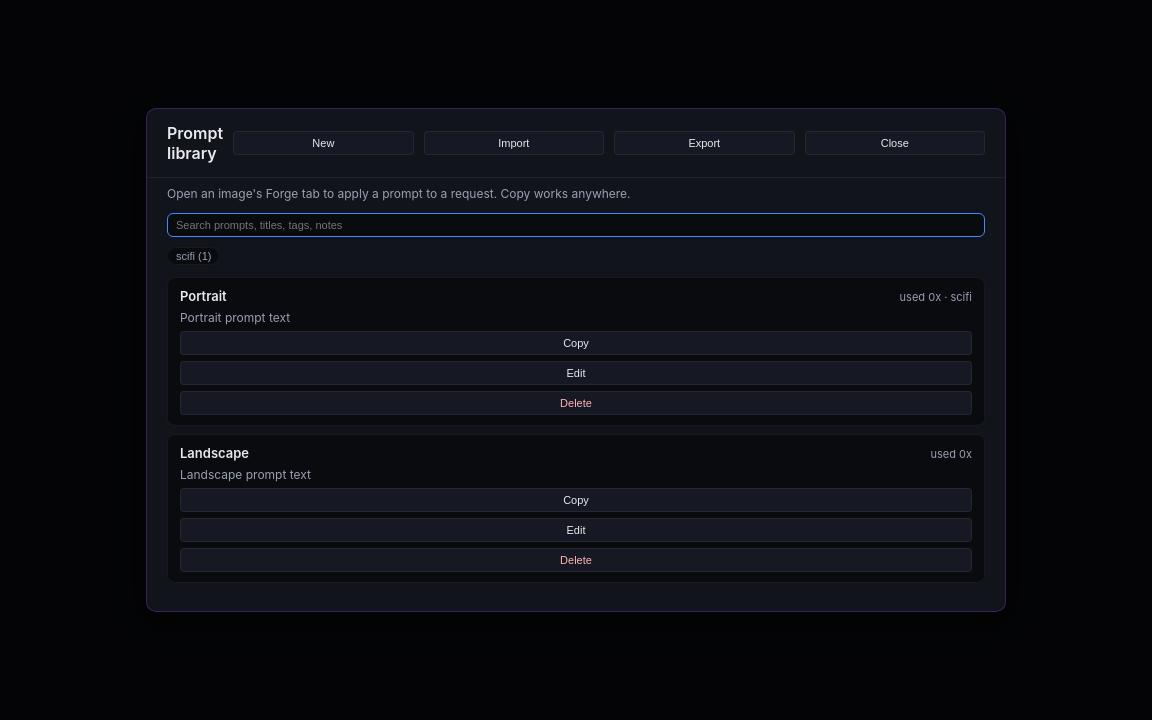
Test: PromptLibraryDialog › deleting two entries in sequence creates an undo stack, popping newest first until cleared
Expected: the text "Portrait" is shown, left=180, top=288, right=227, bottom=304
Delete first entry ("Portrait")
Click the button "Delete" below "Portrait prompt text".
click(576, 403)  # box left=180, top=391, right=972, bottom=415
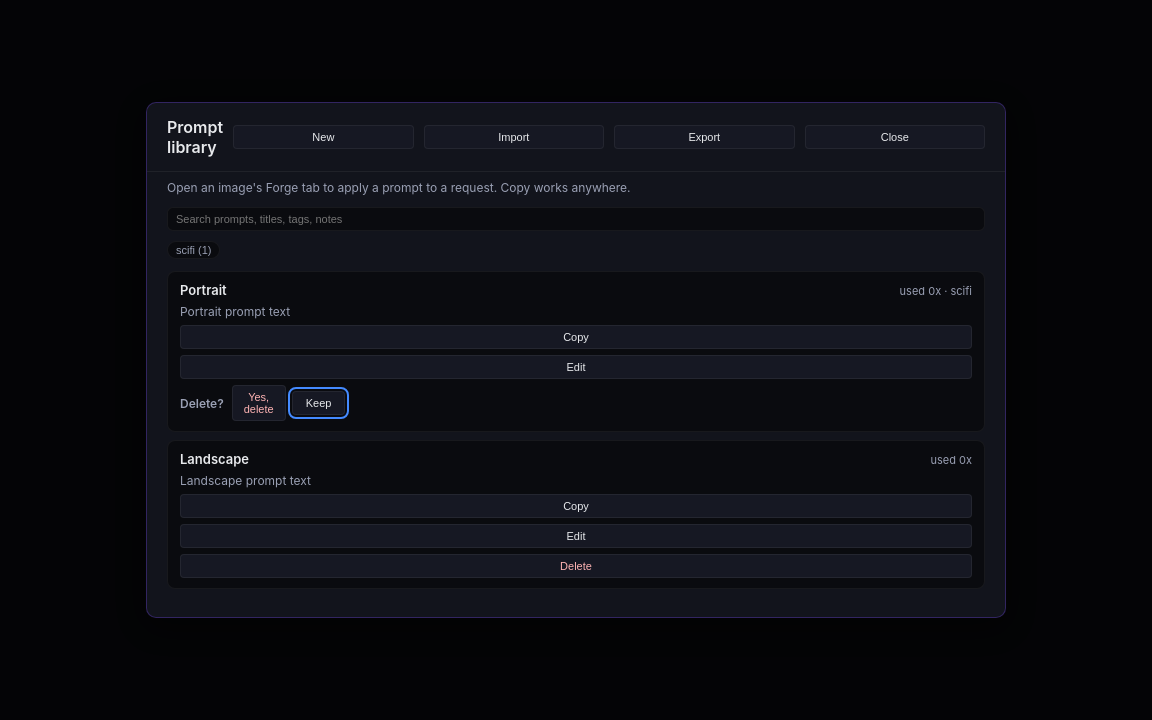
Click the button "Yes, delete".
click(259, 403)  # box left=232, top=385, right=286, bottom=421
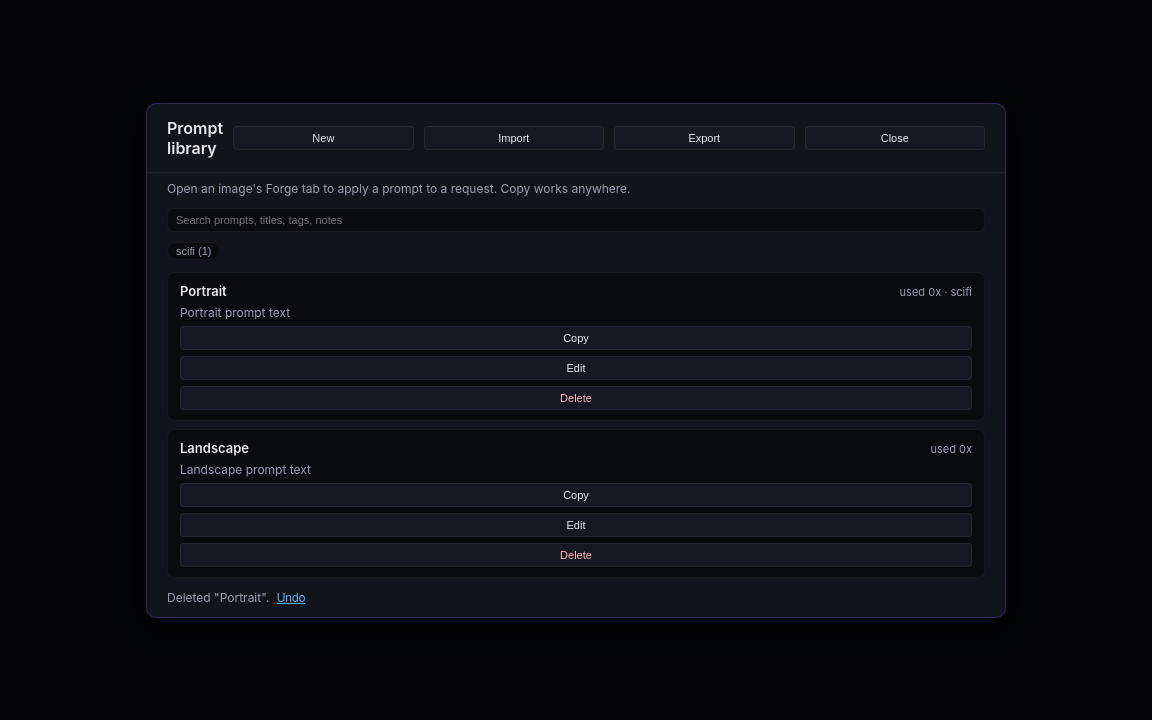
Expected: the text "(+1 more)" is not shown
Result: the text "Deleted \"Portrait\". Undo" is shown at left=167, top=590, right=305, bottom=604
Delete second entry ("Landscape")
Click the button "Delete" below "Landscape prompt text".
click(576, 554)  # box left=180, top=542, right=972, bottom=566
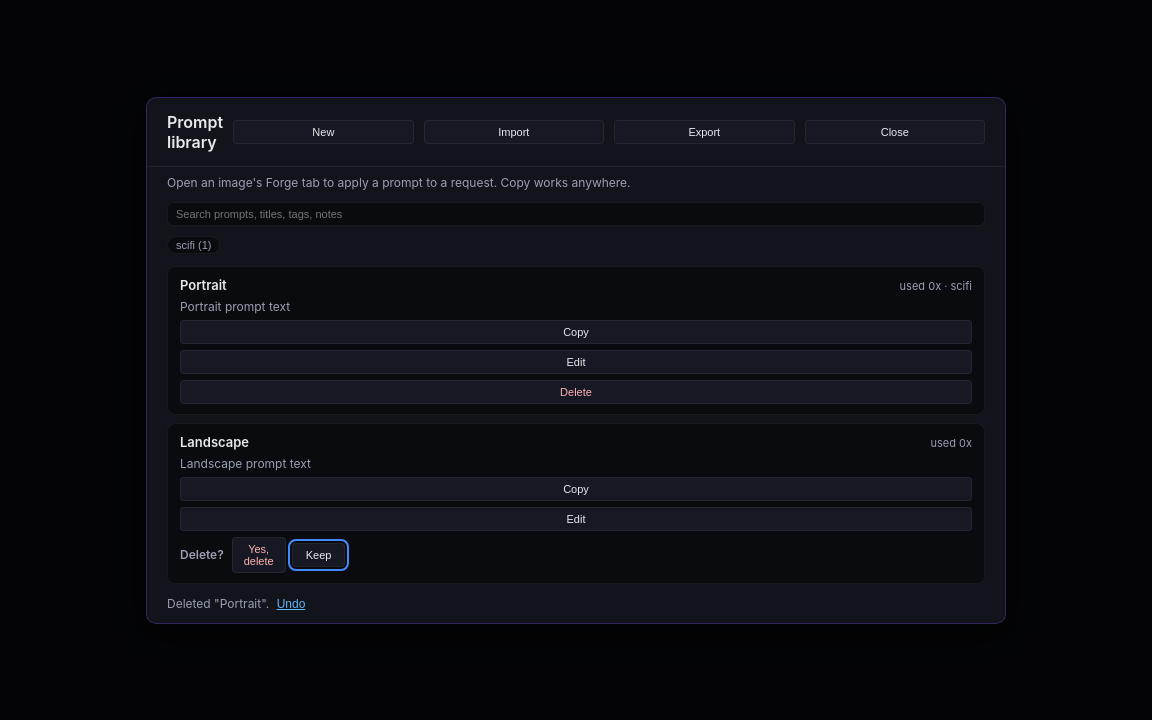
Click the button "Yes, delete".
click(259, 554)  # box left=232, top=536, right=286, bottom=572
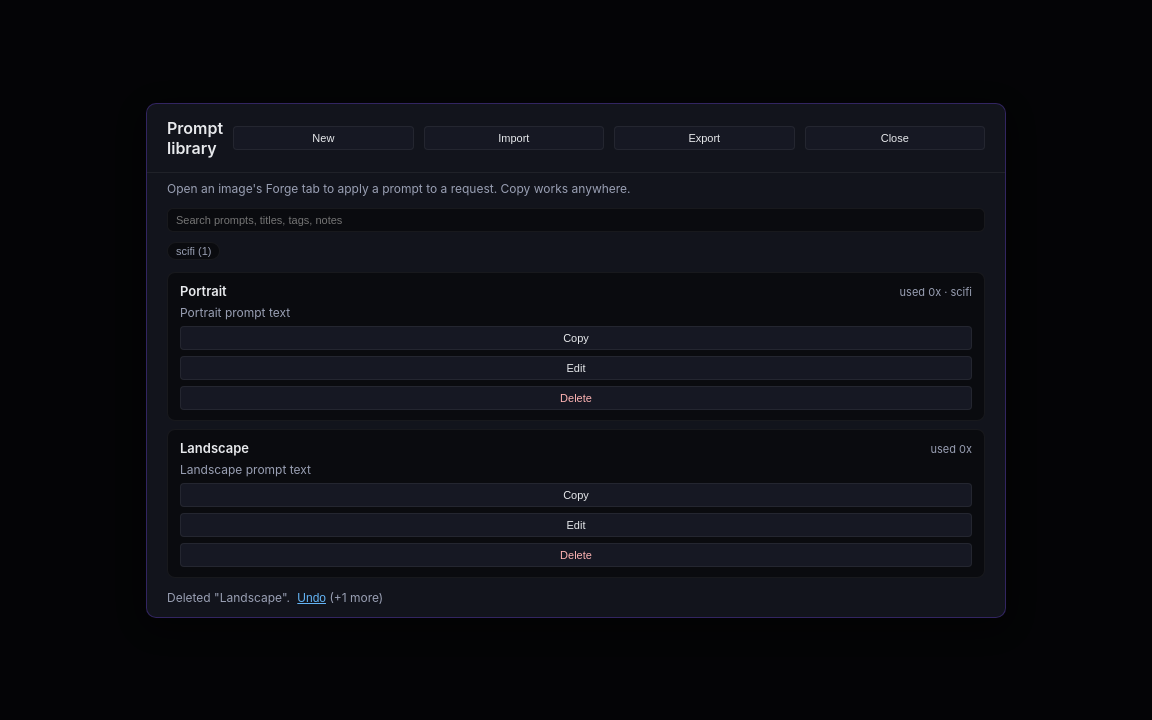
Result: the text "Deleted \"Landscape\". Undo (+1 more)" is shown at left=167, top=590, right=383, bottom=604
Click the button "Undo".
click(312, 598)  # box left=297, top=590, right=326, bottom=604
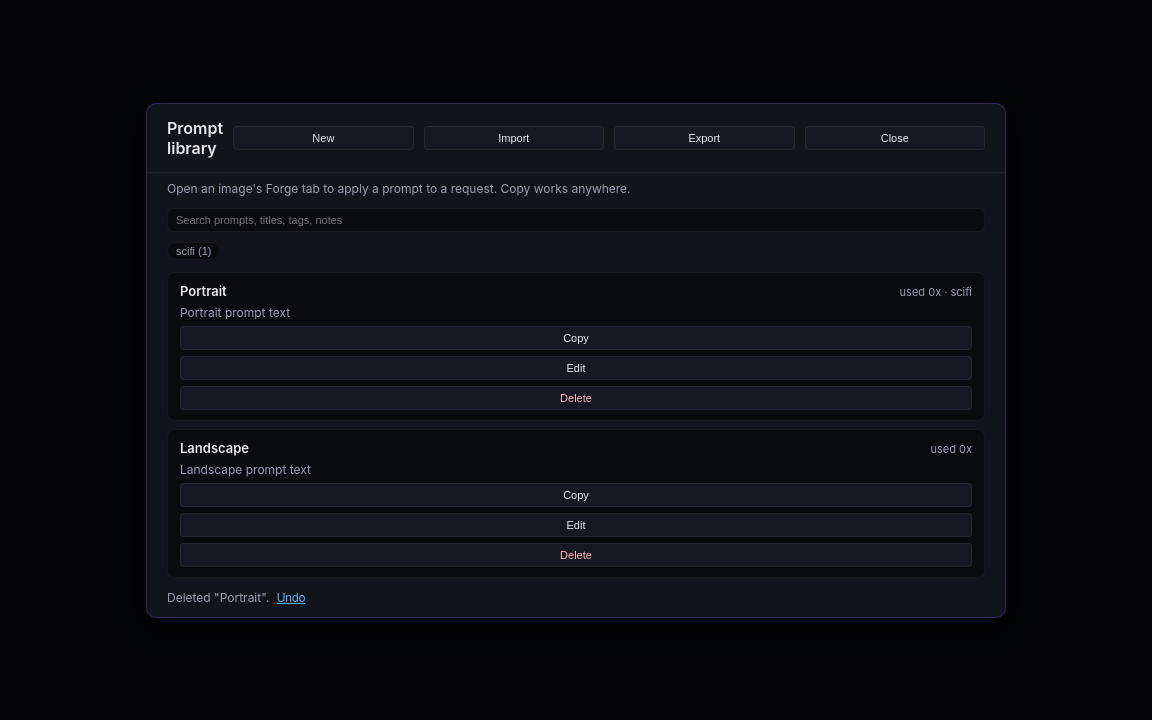
Result: the text "Deleted \"Portrait\". Undo" is shown at left=167, top=590, right=305, bottom=604
Result: the text "(+1 more)" is gone
Click the button "Undo".
click(291, 598)  # box left=277, top=590, right=305, bottom=604
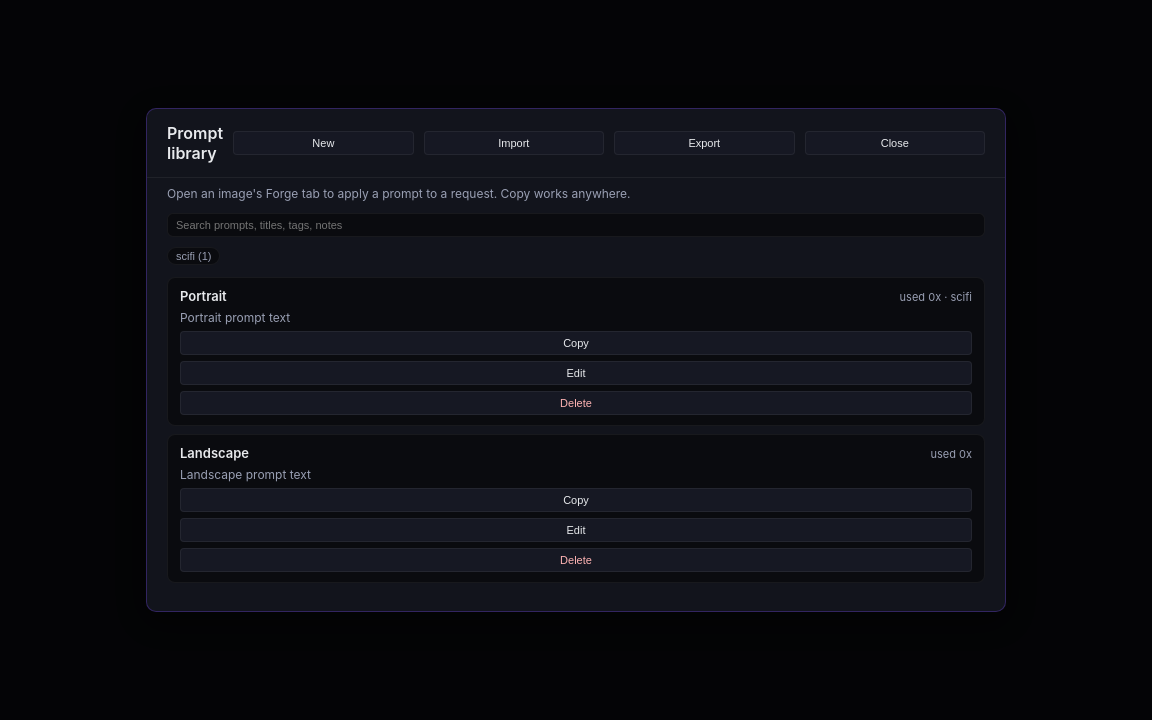
Result: the button "Undo" is gone
Result: the text "Deleted" is gone
